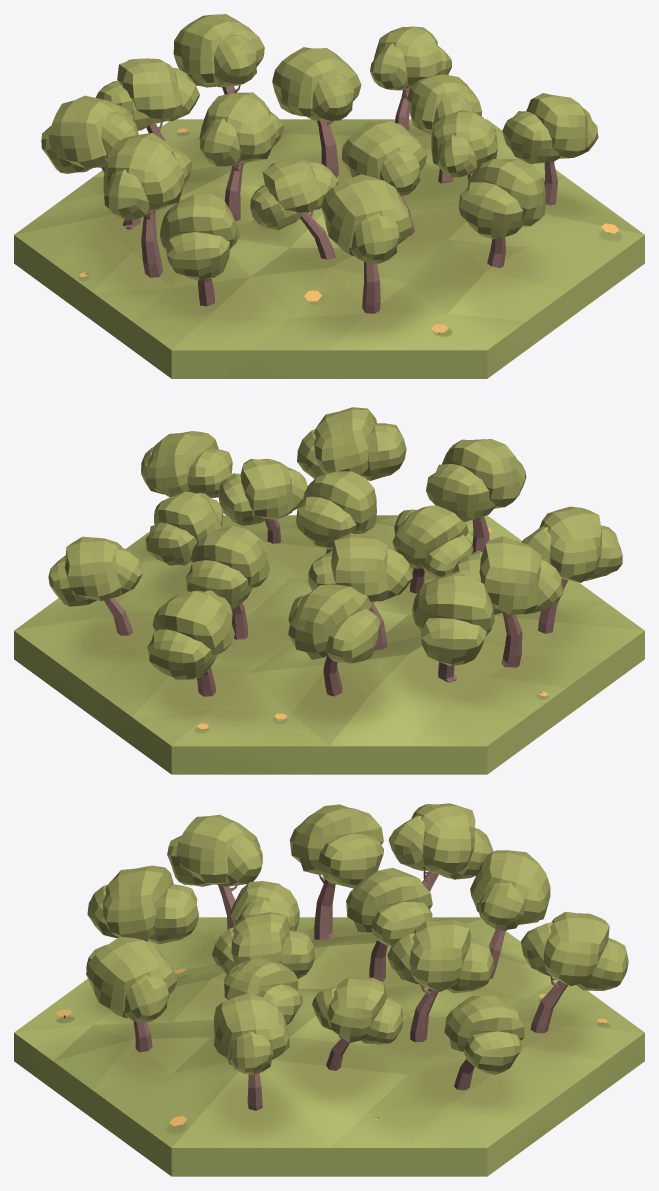
Rendered from deciduousForest.glb.
The picture shows the model from 3 angles, top to bottom: view 1: azimuth 30°, elevation 25°; view 2: azimuth 150°, elevation 25°; view 3: azimuth 270°, elevation 25°; orthographic projection.
Visible parts, largest first — view 1: forest; view 2: forest; view 3: forest.
Boxes of the visible parts, bbox=[...] form: forest: bbox=[14, 14, 644, 378]; forest: bbox=[14, 407, 644, 774]; forest: bbox=[14, 803, 644, 1176].
Size of the model in its own units: 1.73 by 0.5812 by 2.
3 materials, 3 textured.
